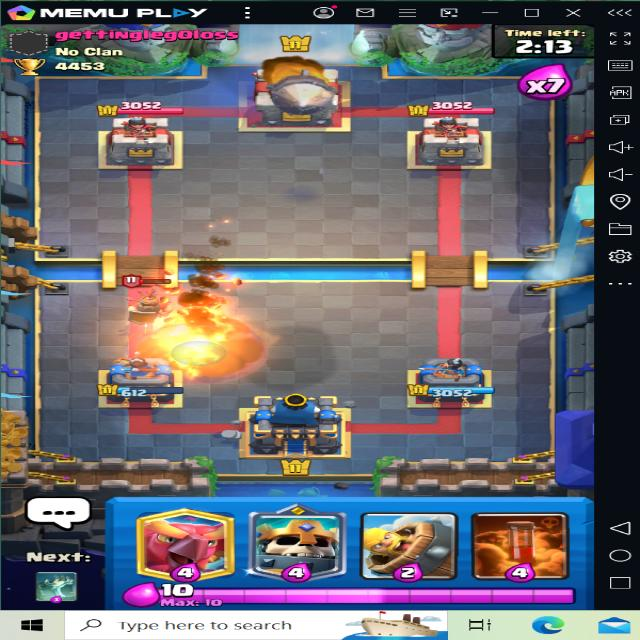rocket: (269, 66, 337, 128)
royal-recruits: (124, 273, 176, 323)
